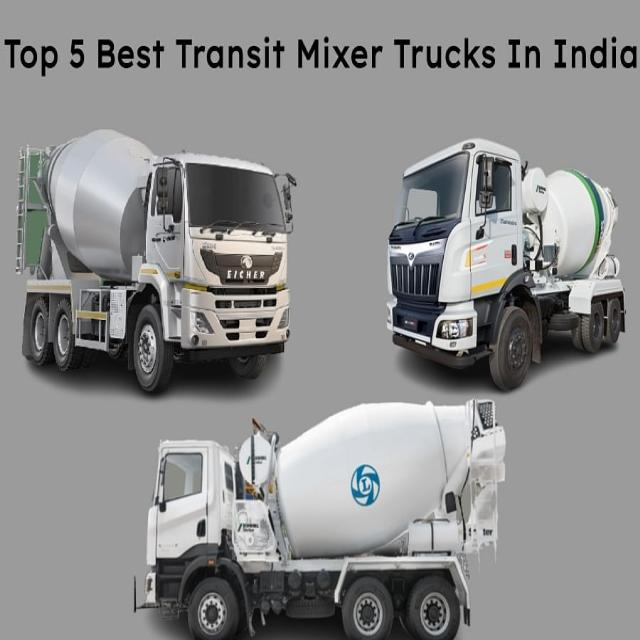truck: (141, 399, 505, 639), (16, 129, 292, 392), (388, 139, 625, 390)
